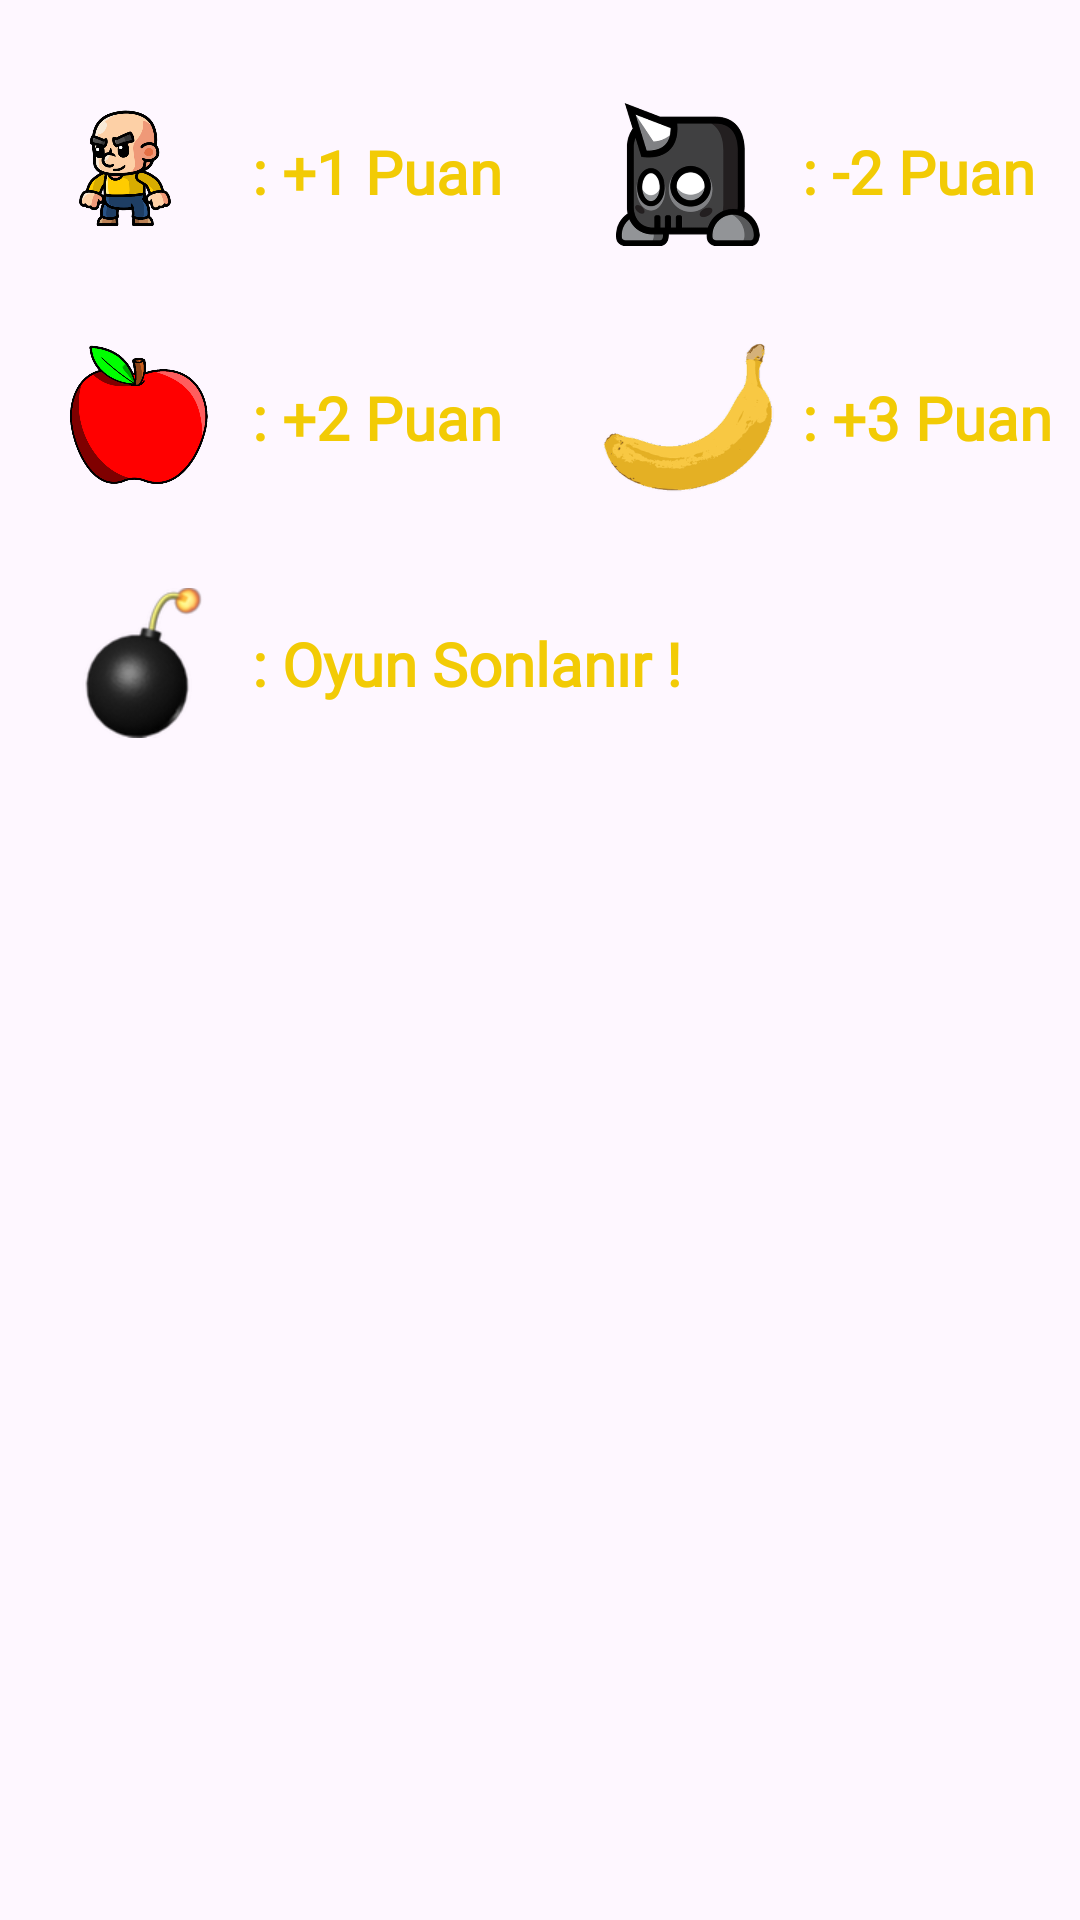

Named icons in this screenshot (1080px x 1920px) and their centers, [x,y]:
apple: [139,414]
banana: [688,417]
bomb: [143,663]
kid: [125,168]
zombi: [688,174]
